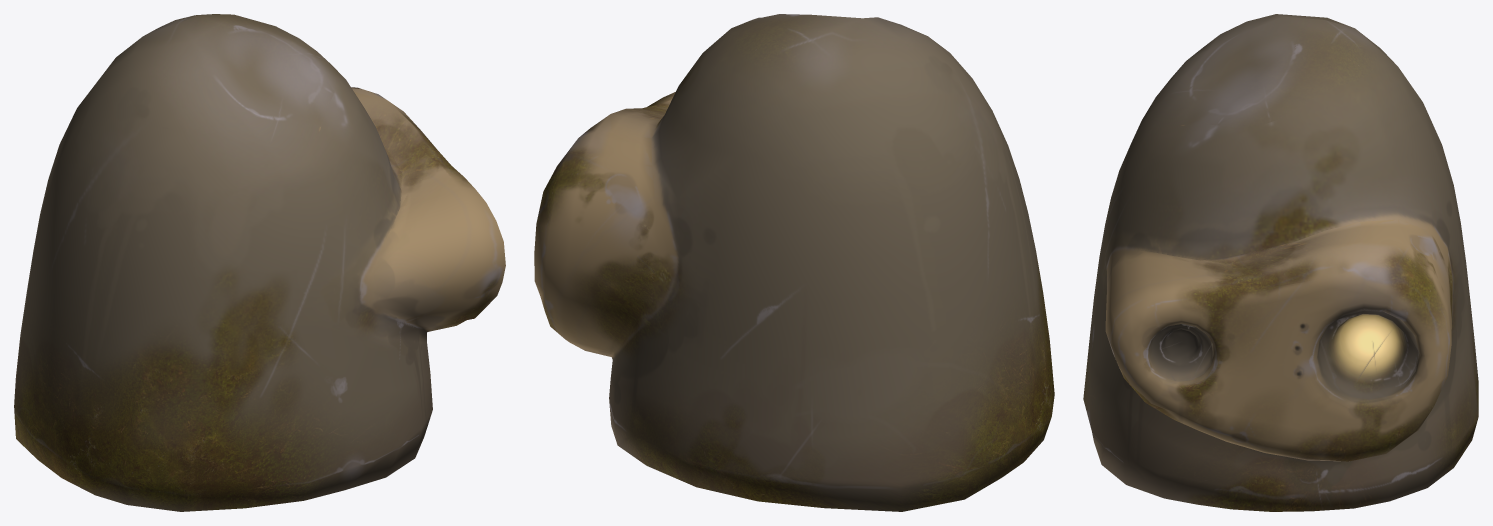
The model's file is Robot.glb.
The picture shows the model from 3 angles, left to right: view 1: azimuth 30°, elevation 25°; view 2: azimuth 150°, elevation 25°; view 3: azimuth 270°, elevation 25°; orthographic projection. The views are drawn at different scales.
Parts seen in each view (by area): view 1: Object_2; view 2: Object_2; view 3: Object_2.
Part boxes in pixels (<box>): Object_2: <box>14,14,505,511</box>; Object_2: <box>534,14,1054,511</box>; Object_2: <box>1083,14,1478,511</box>.
Size of the model in its own units: 2.51 by 2.49 by 2.24.
1 material, 1 textured.
